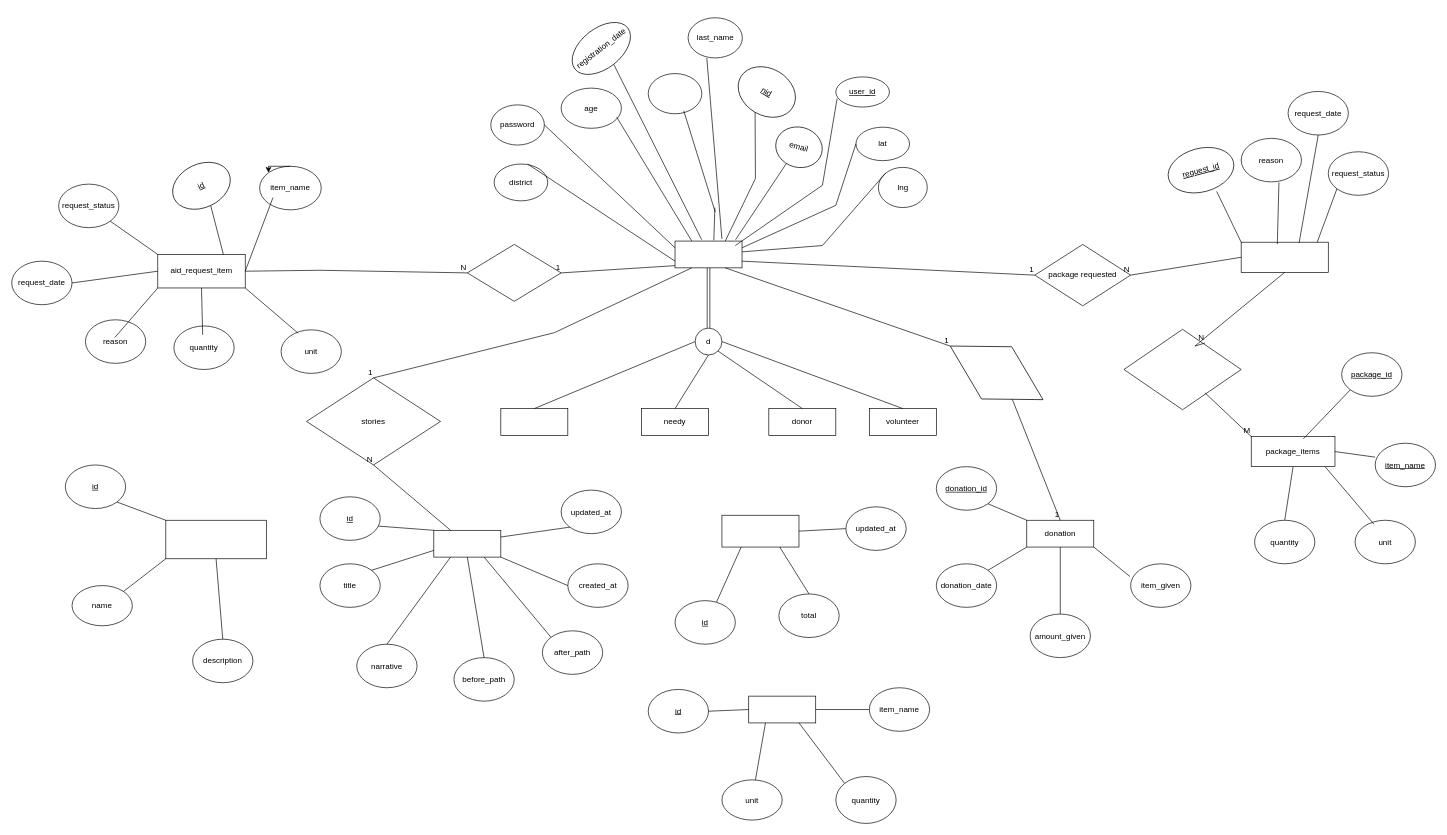
This 1447x835 diagram has some shape labels left out. Each missing label, with the centre of its shape:
"admin" belongs at point (534, 421).
"aid_item" belongs at point (782, 709).
"aid_request_packages" belongs at point (1284, 257).
"donates" belongs at point (996, 372).
"first_name" belongs at point (675, 93).
"funds_total" belongs at point (760, 531).
"item_requested" belongs at point (514, 272).
"packages" belongs at point (215, 539).
"requesting packages" belongs at point (1182, 369).
"story" belongs at point (467, 543).
"User" belongs at point (708, 254).
